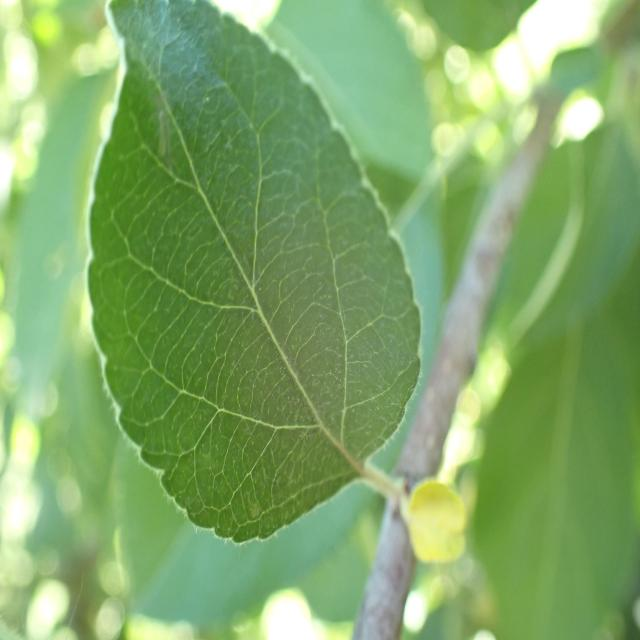healthy: (86, 0, 422, 547)
